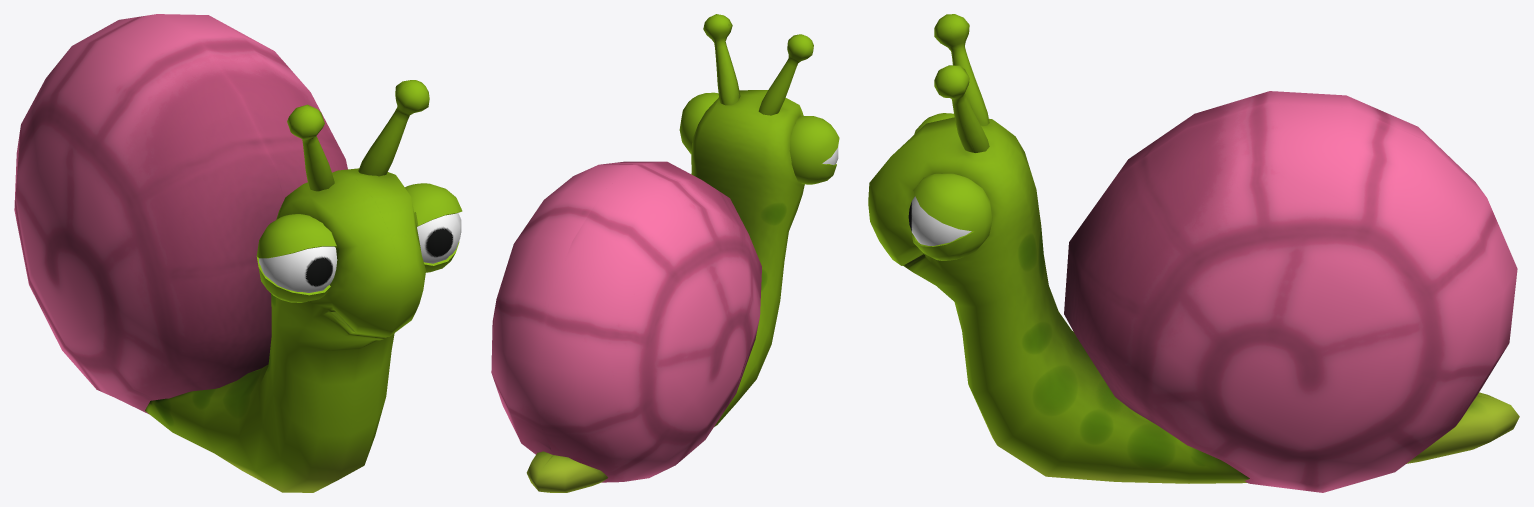
File: Snail.FBX
The picture shows the model from 3 angles, left to right: view 1: azimuth 30°, elevation 25°; view 2: azimuth 150°, elevation 25°; view 3: azimuth 270°, elevation 25°; orthographic projection. The views are drawn at different scales.
Visible parts, largest first — view 1: Home; view 2: Home; view 3: Home.
Boxes of the visible parts, x1,y1,x2,y2 form: Home: (14,14,462,492); Home: (491,14,839,492); Home: (868,14,1519,492).
Size of the model in its own units: 117 by 192 by 257.
1 material, 1 textured.
